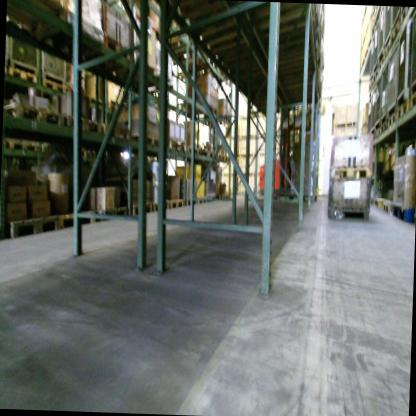forklift: (244, 114, 300, 203)
pallet: (7, 0, 65, 42), (84, 36, 133, 72), (6, 211, 60, 241), (3, 99, 62, 126), (62, 112, 102, 137), (60, 205, 95, 232), (7, 66, 38, 85), (97, 205, 127, 224), (102, 123, 130, 142), (331, 166, 373, 176), (40, 77, 66, 93), (132, 135, 160, 149), (166, 137, 186, 155), (392, 204, 413, 221), (131, 201, 153, 216), (396, 98, 410, 121), (3, 141, 24, 152), (392, 19, 401, 43), (153, 199, 168, 213), (401, 7, 412, 25), (375, 197, 391, 209), (24, 142, 38, 155), (385, 37, 391, 61), (170, 198, 184, 208), (383, 200, 392, 215), (387, 114, 396, 127), (187, 146, 200, 155), (380, 121, 387, 134), (187, 197, 196, 207), (198, 197, 207, 206), (373, 68, 378, 84), (379, 56, 384, 71), (412, 91, 416, 108), (375, 128, 380, 136), (370, 79, 373, 89), (5, 67, 6, 76)
stillage: (397, 15, 413, 109), (9, 37, 39, 73), (40, 51, 66, 86), (387, 45, 399, 119), (380, 64, 389, 126), (410, 7, 416, 95), (378, 6, 385, 64), (375, 77, 382, 133), (384, 6, 392, 51), (371, 86, 377, 136), (374, 21, 379, 73), (370, 35, 375, 81), (392, 6, 401, 30), (5, 35, 8, 67)
